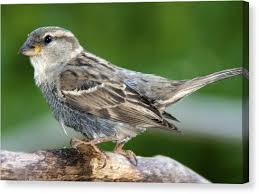hsparrow: (17, 23, 248, 166)
